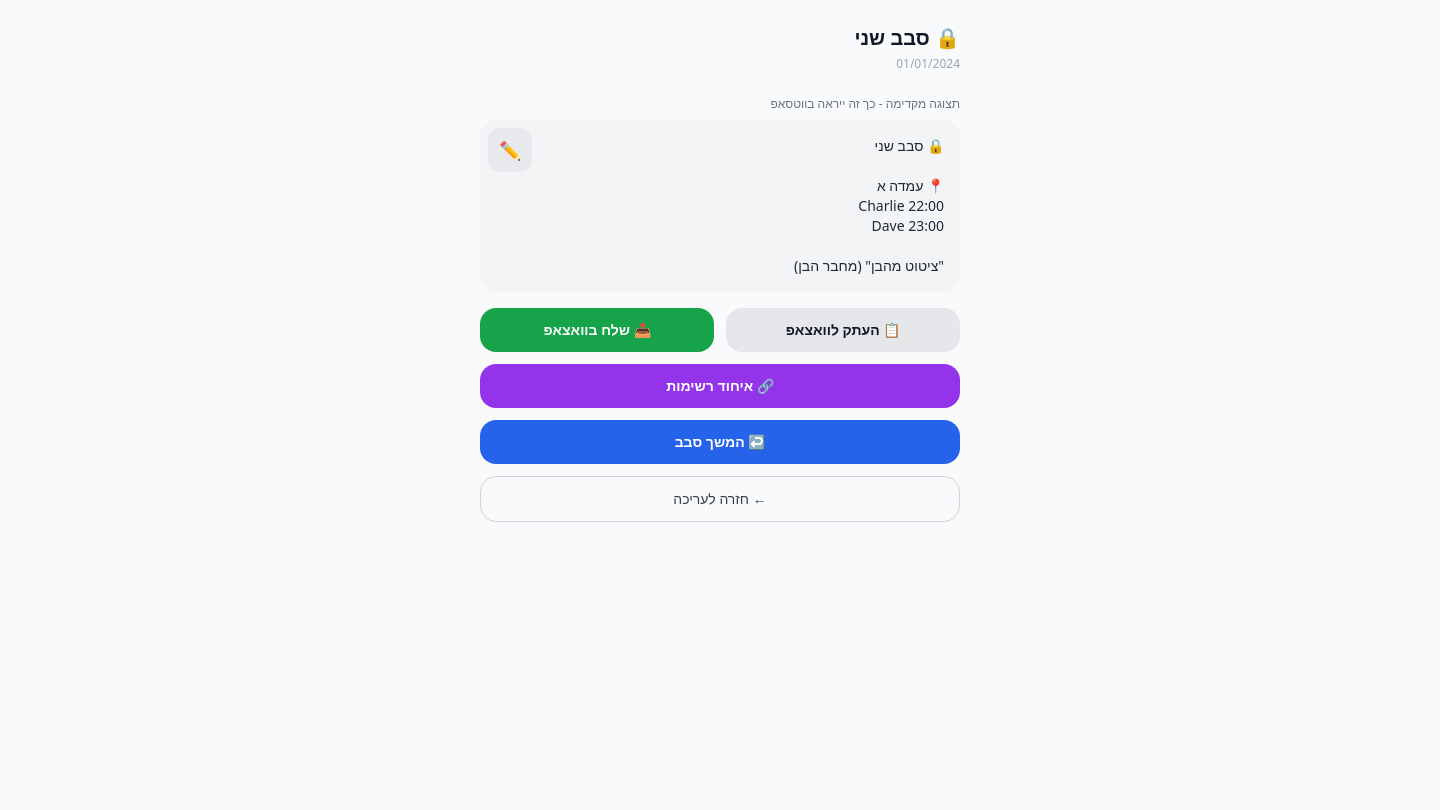
it: ResultScreen — continued round shows two-option modal › shows modal with two options when clicking "איחוד רשימות" on a continued round
Click the button "🔗 איחוד רשימות".
click(720, 386)  # box [480,364,960,408]
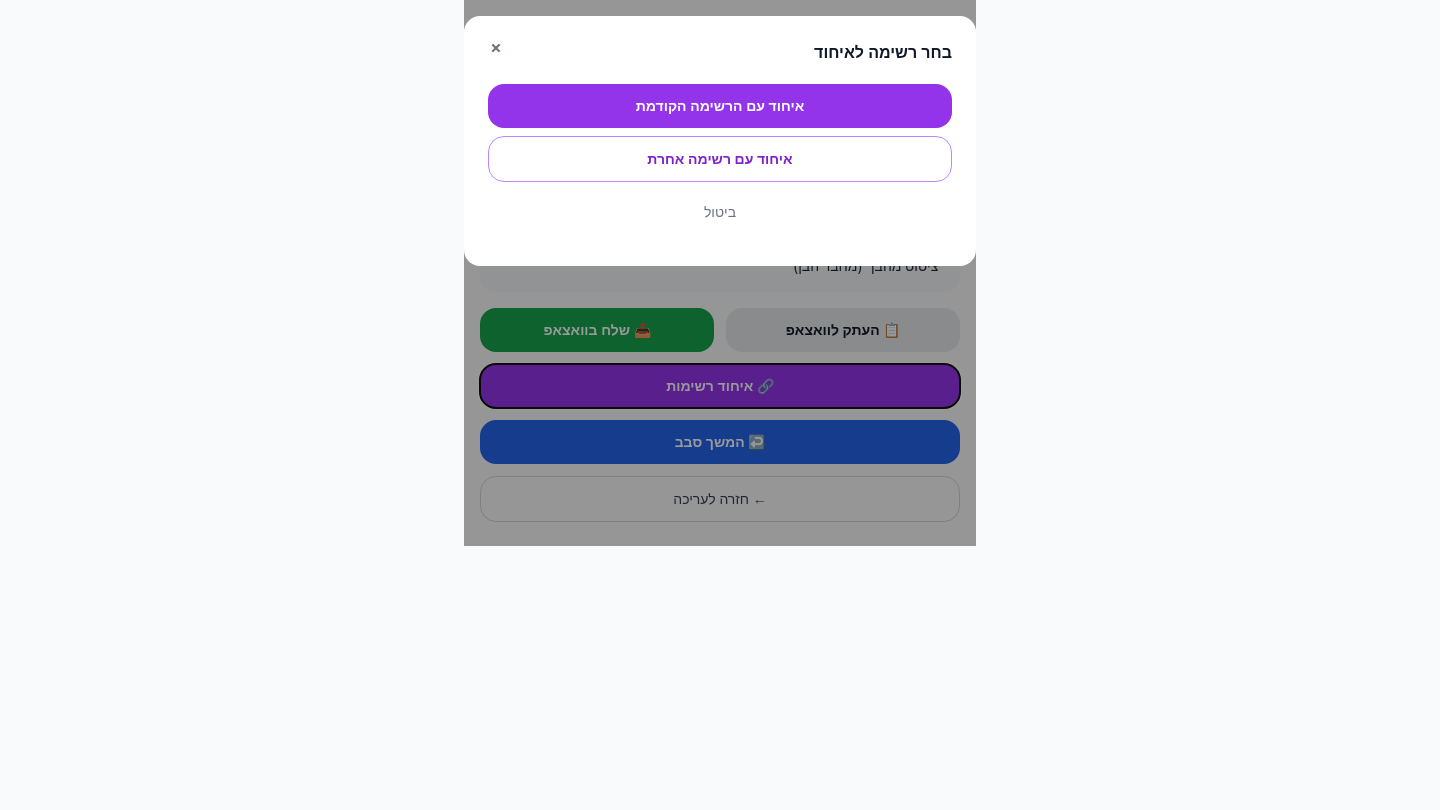
expect the button "איחוד עם הרשימה הקודמת" is shown: met, box [488,84,952,128]
expect the button "איחוד עם רשימה אחרת" is shown: met, box [488,136,952,182]
